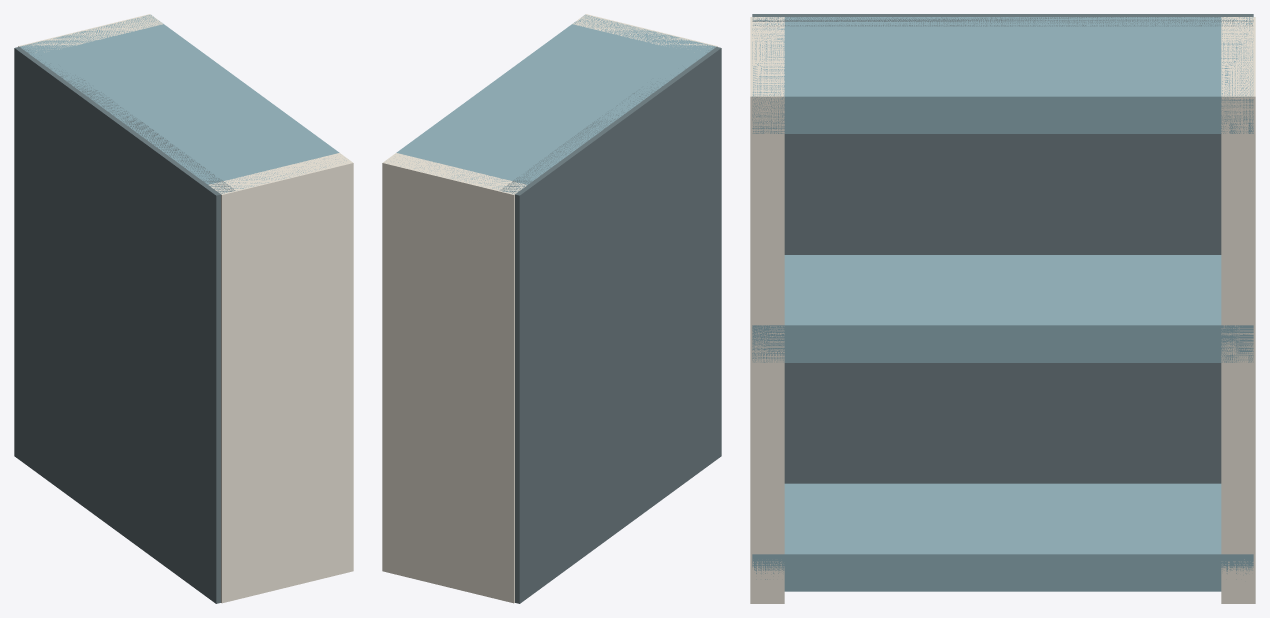
The model's file is prop_display_shelf_v4_ShadowProxy.glb.
3 views of the same model, side by side, from view 1: azimuth 30°, elevation 25°; view 2: azimuth 150°, elevation 25°; view 3: azimuth 270°, elevation 25° (orthographic). The views are drawn at different scales.
Parts seen in each view (by area): view 1: prop_display_shelf_v4_ShadowProxy / Primary assembly; view 2: prop_display_shelf_v4_ShadowProxy / Primary assembly; view 3: prop_display_shelf_v4_ShadowProxy / Primary assembly.
Part boxes in pixels (bbox=[...]): prop_display_shelf_v4_ShadowProxy / Primary assembly: bbox=[14, 14, 353, 603]; prop_display_shelf_v4_ShadowProxy / Primary assembly: bbox=[382, 14, 721, 603]; prop_display_shelf_v4_ShadowProxy / Primary assembly: bbox=[750, 14, 1255, 603].
Bounding box in the file's own units: 0.5705 × 1.63 × 1.47.
